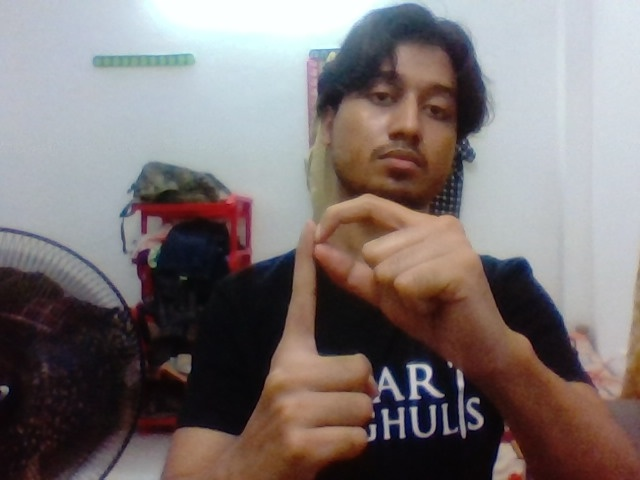P: (267, 186, 489, 473)
